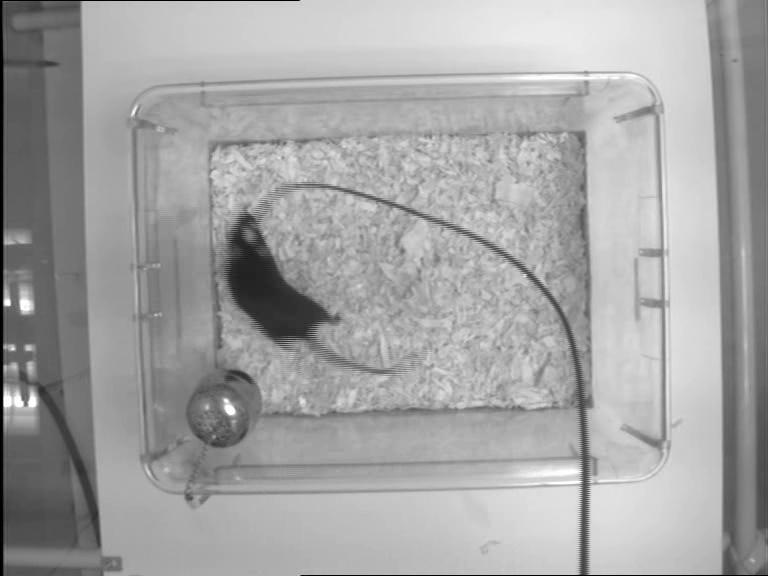mice: (222, 212, 424, 376)
